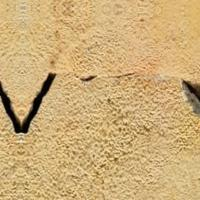crack: (0, 64, 199, 158)
